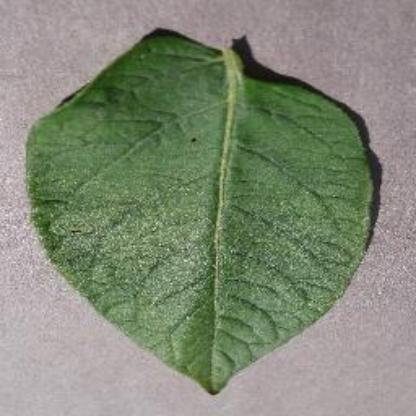Healthy-plant: (23, 30, 382, 394)
